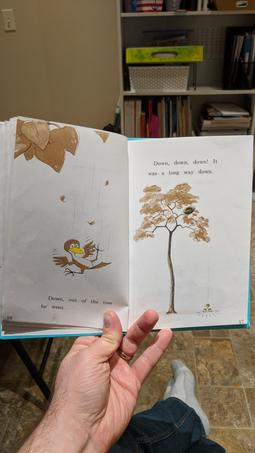text block: (144, 154, 225, 181), (32, 291, 117, 313)
